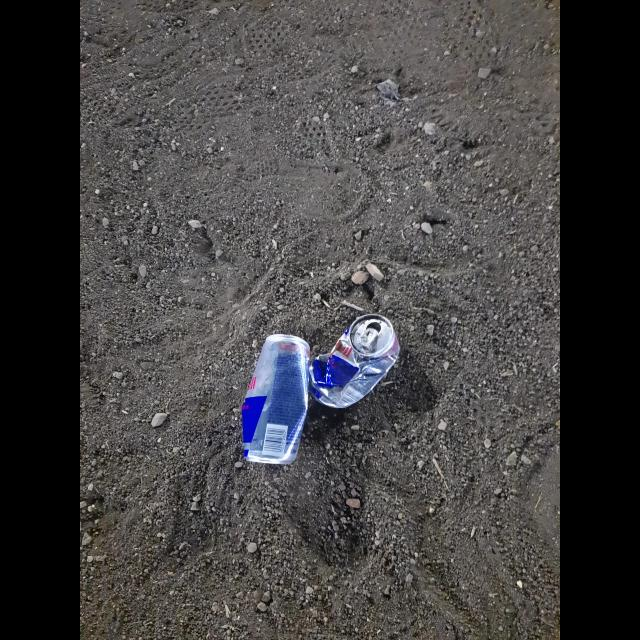trash: (241, 333, 311, 465), (308, 313, 400, 409)
